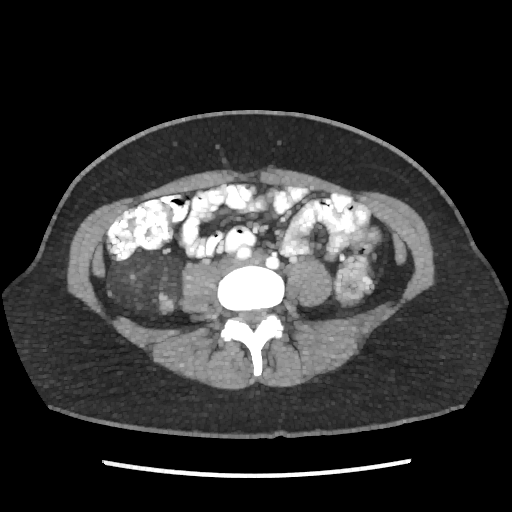Lesion: (107, 253, 184, 319)
